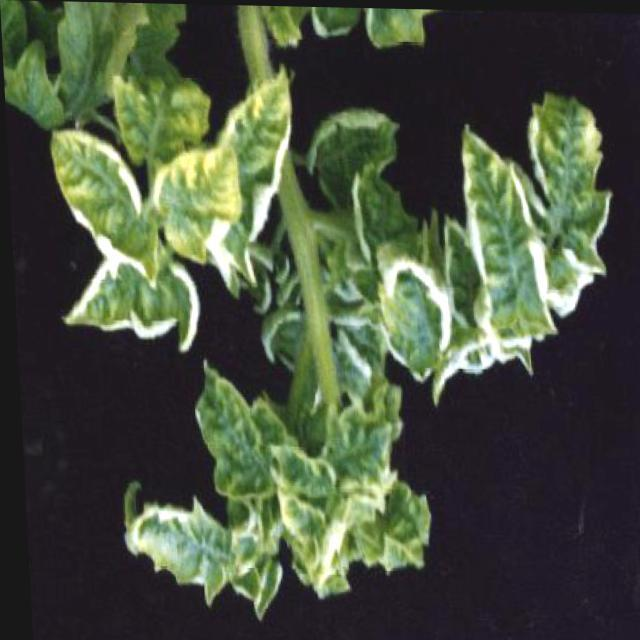Tomato healthy leaf: (452, 93, 551, 354), (48, 112, 165, 282), (524, 83, 618, 290), (56, 240, 206, 368), (116, 470, 264, 588), (182, 354, 275, 516), (368, 218, 453, 392), (146, 134, 258, 266)
